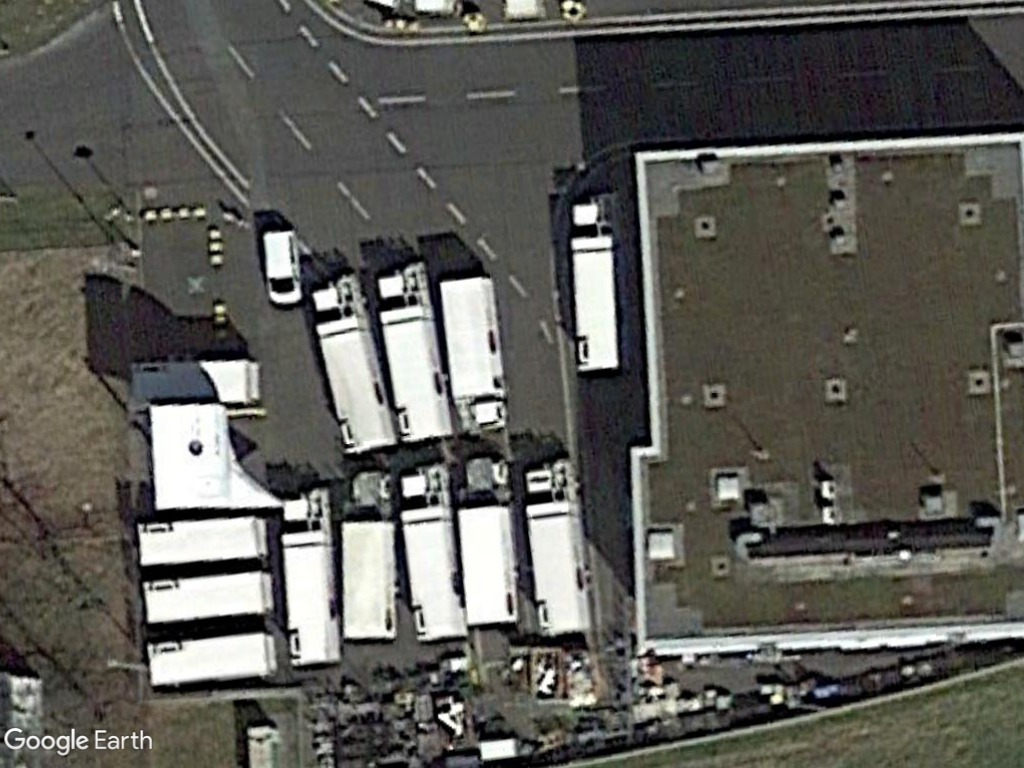longvehicle: (135, 564, 273, 631), (143, 628, 282, 690), (135, 512, 270, 573)
truck: (306, 280, 397, 453), (372, 266, 457, 445), (518, 463, 597, 643), (456, 450, 530, 637), (396, 456, 470, 640), (434, 275, 515, 435), (273, 488, 341, 671), (565, 195, 631, 381), (337, 468, 403, 646)
van: (255, 215, 308, 314)
